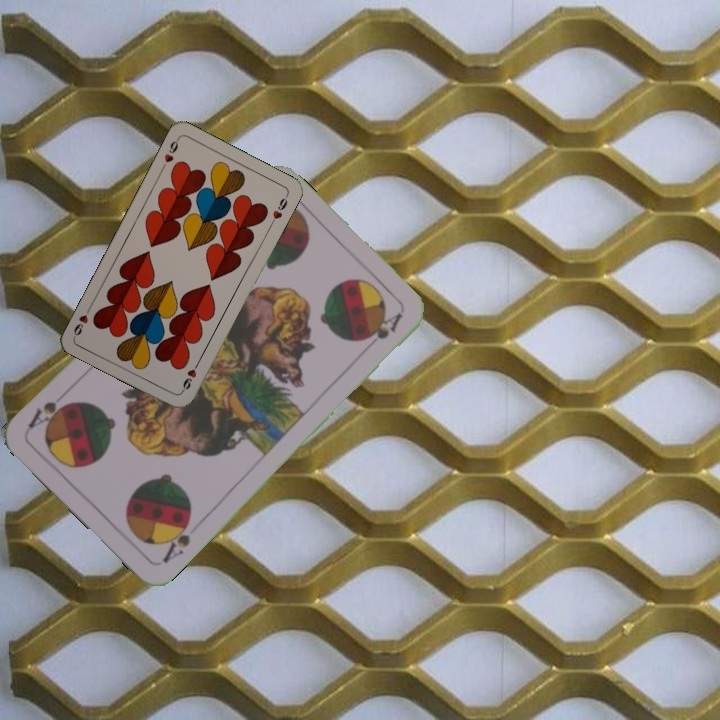H9: (157, 134, 182, 172), (177, 357, 202, 395)
SA: (158, 512, 194, 566)
